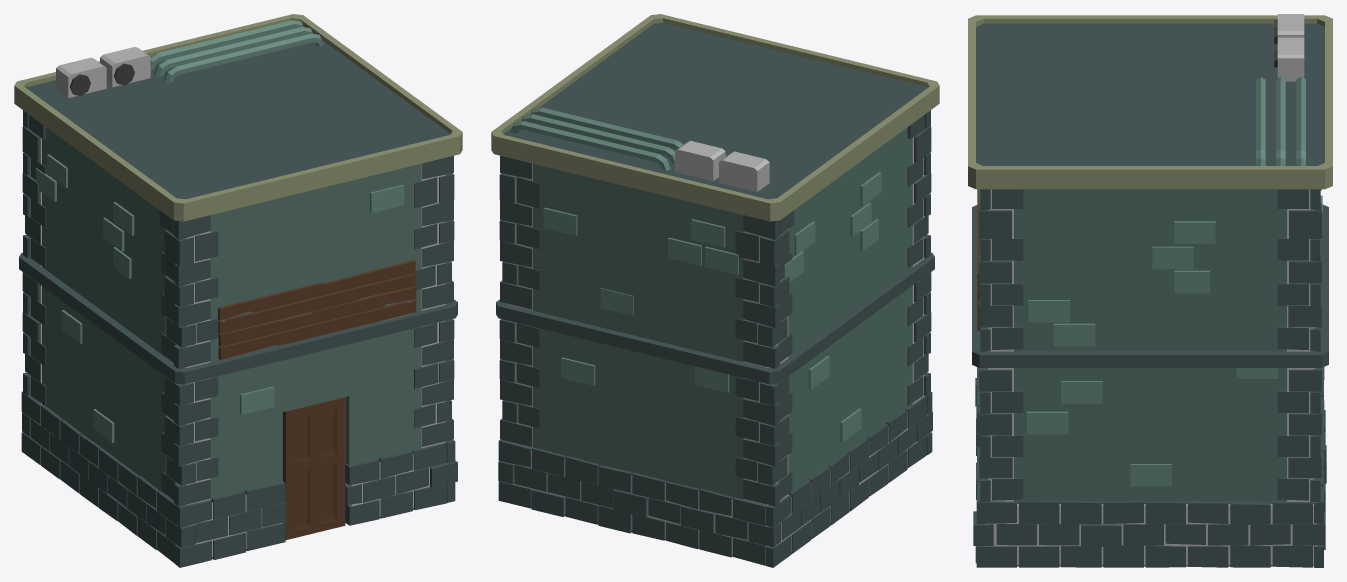
File: 2Story_Sign_Mat.gltf
3 renders of one model, left to right at view 1: azimuth 30°, elevation 25°; view 2: azimuth 150°, elevation 25°; view 3: azimuth 270°, elevation 25°, orthographic. The views are drawn at different scales.
Visible parts, largest first — view 1: o 2Story_Sign_Mat_Cube.030; view 2: o 2Story_Sign_Mat_Cube.030; view 3: o 2Story_Sign_Mat_Cube.030.
Boxes of the visible parts, x1,y1,x2,y2 form: o 2Story_Sign_Mat_Cube.030: [14, 14, 462, 567]; o 2Story_Sign_Mat_Cube.030: [491, 14, 939, 567]; o 2Story_Sign_Mat_Cube.030: [968, 14, 1332, 567].
Bounding box in the file's own units: 2.15 × 2.76 × 2.15.
